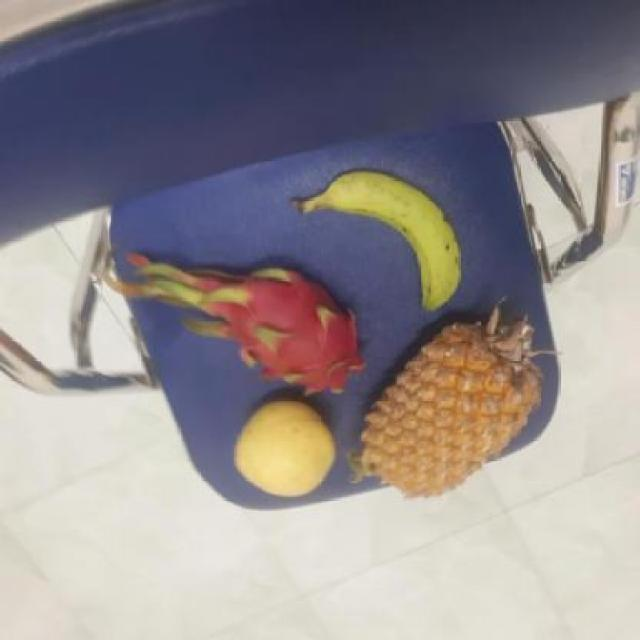banana: (292, 170, 460, 312)
dragon fruit: (217, 263, 360, 399)
pear: (230, 397, 339, 498)
pineapple: (347, 308, 536, 508)
